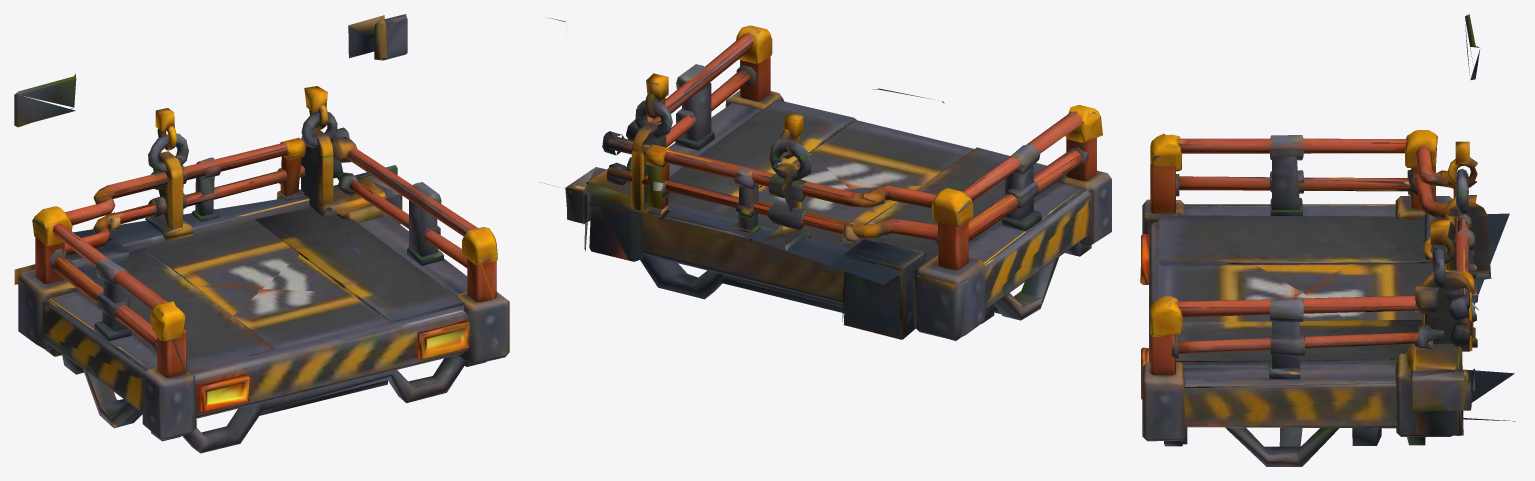
File: lift_car.glb
3 views of the same model, side by side, from view 1: azimuth 30°, elevation 25°; view 2: azimuth 150°, elevation 25°; view 3: azimuth 270°, elevation 25° (orthographic). The views are drawn at different scales.
Size of what is drawn, in the model's own units: 0.3722 by 0.3342 by 0.2906.
Materials: 1 (1 with a texture image).
